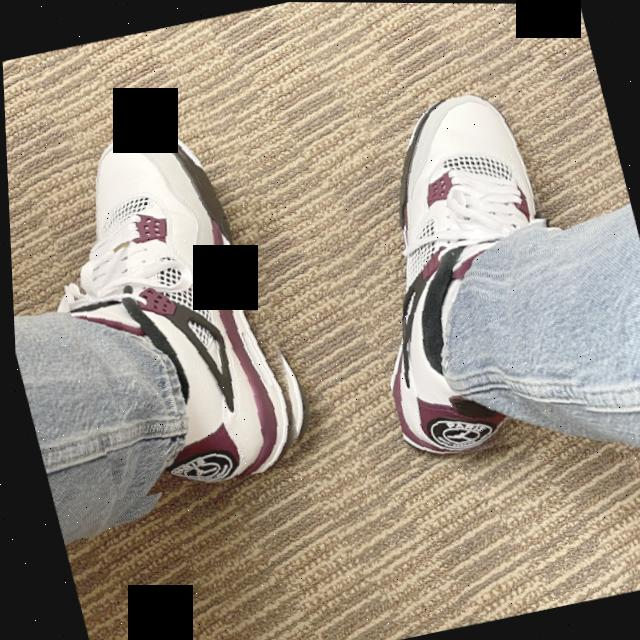shoe: (24, 100, 321, 502), (320, 82, 602, 470)
